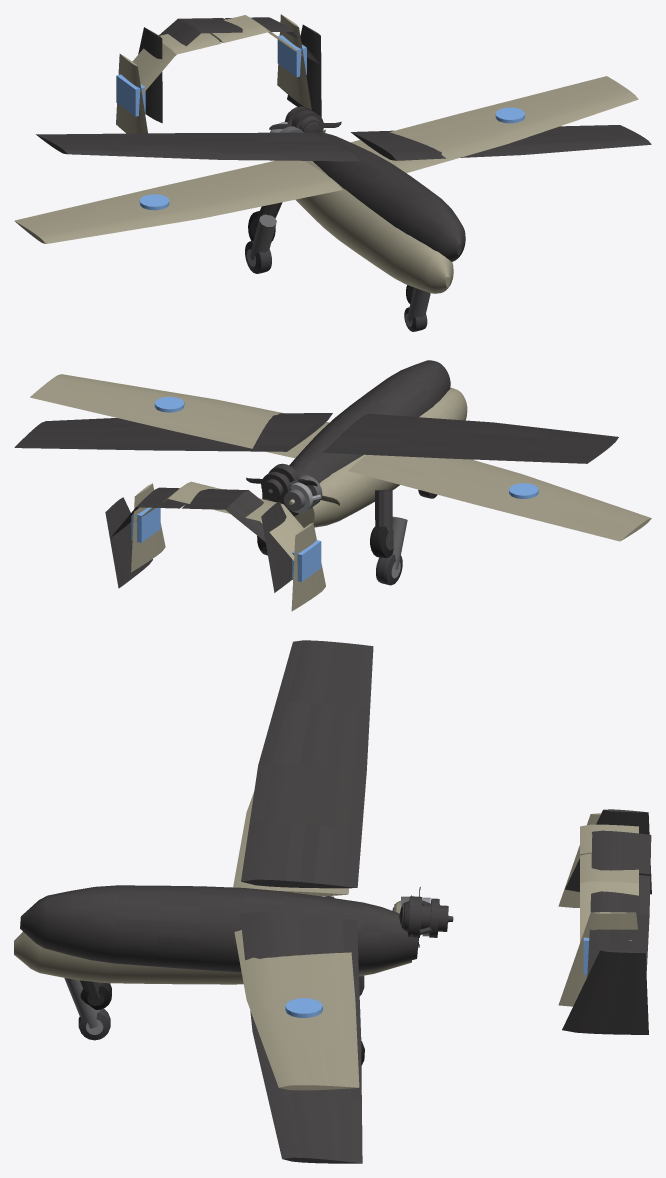
File: drone__rq_101_songgolmae.glb
The picture shows the model from 3 angles, top to bottom: view 1: azimuth 30°, elevation 25°; view 2: azimuth 150°, elevation 25°; view 3: azimuth 270°, elevation 25°; orthographic projection. The views are drawn at different scales.
Parts seen in each view (by area): view 1: Fuselage_Mesh, Wreck; view 2: Wreck, Fuselage_Mesh, Propeller_Mesh; view 3: Wreck, Fuselage_Mesh.
Boxes of the visible parts, box(x1,y1,x2,y2) form: Fuselage_Mesh: box(14, 14, 638, 331); Wreck: box(36, 17, 651, 303); Wreck: box(14, 360, 618, 592); Fuselage_Mesh: box(30, 374, 651, 611); Propeller_Mesh: box(284, 475, 339, 513); Wreck: box(20, 640, 651, 1163); Fuselage_Mesh: box(14, 791, 638, 1090).
Size of what is drawn, in the model's own units: 6.56 by 1.91 by 4.75.
